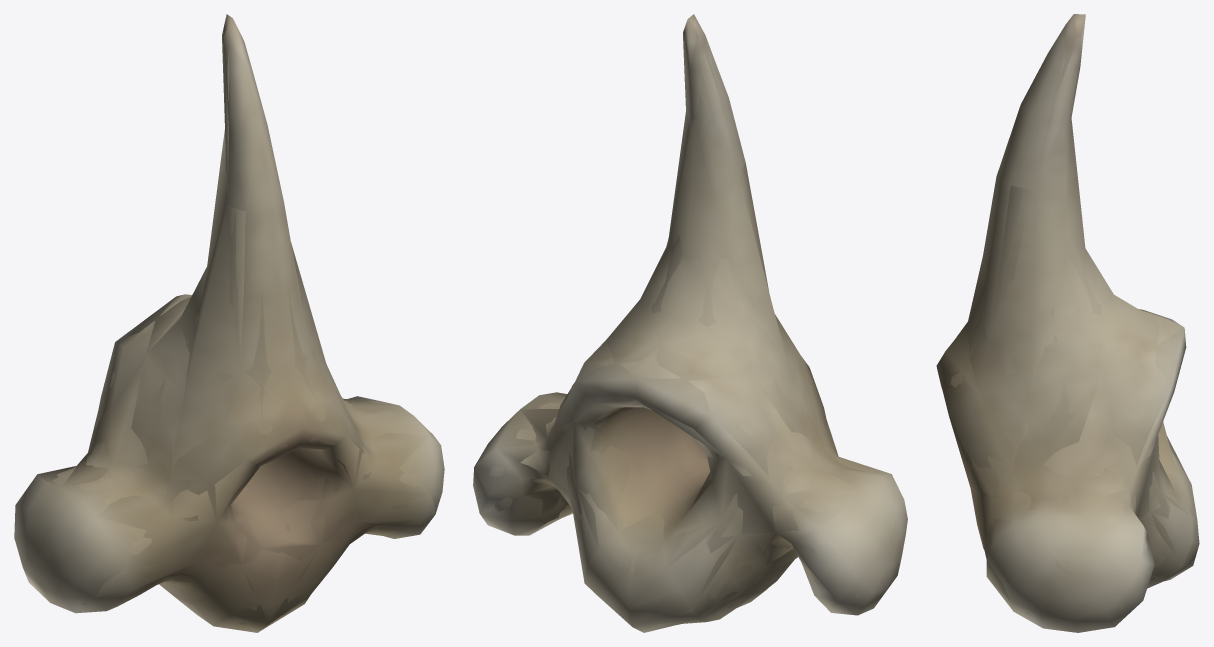
The model's file is vertebrae thoracicae 06.fbx.
3 views of the same model, side by side, from view 1: azimuth 30°, elevation 25°; view 2: azimuth 150°, elevation 25°; view 3: azimuth 270°, elevation 25° (orthographic). The views are drawn at different scales.
Visible parts, largest first — view 1: vertebrae thoracicae 06, vertebrae thoracicae 06 low, vertebrae thoracicae 06 high; view 2: vertebrae thoracicae 06, vertebrae thoracicae 06 low, vertebrae thoracicae 06 high; view 3: vertebrae thoracicae 06, vertebrae thoracicae 06 low, vertebrae thoracicae 06 high.
Part boxes in pixels (x1,y1,x2,y2): vertebrae thoracicae 06: (14, 14, 444, 632); vertebrae thoracicae 06 low: (37, 16, 435, 629); vertebrae thoracicae 06 high: (20, 142, 433, 624); vertebrae thoracicae 06: (473, 14, 907, 632); vertebrae thoracicae 06 low: (478, 16, 896, 626); vertebrae thoracicae 06 high: (489, 93, 897, 624); vertebrae thoracicae 06: (936, 14, 1199, 632); vertebrae thoracicae 06 low: (938, 36, 1192, 625); vertebrae thoracicae 06 high: (950, 95, 1194, 615).
Bounding box in the file's own units: 1.33 × 1.94 × 0.7883.
Materials: 1 (1 with a texture image).
